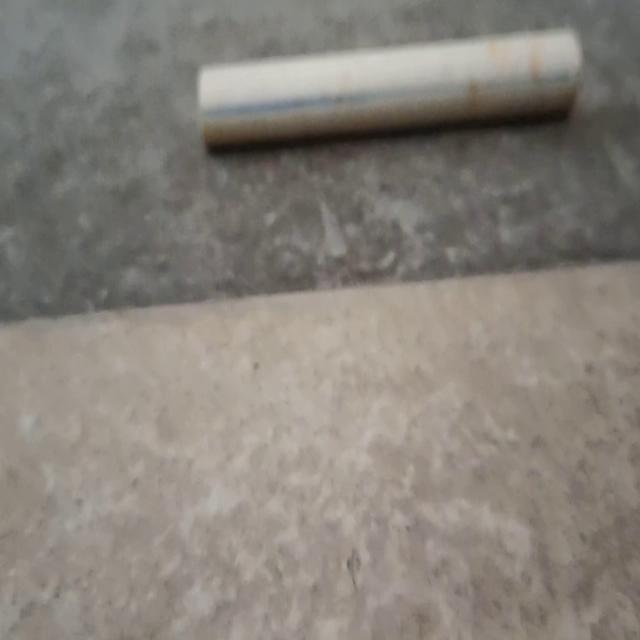Cube: (195, 24, 583, 150)
